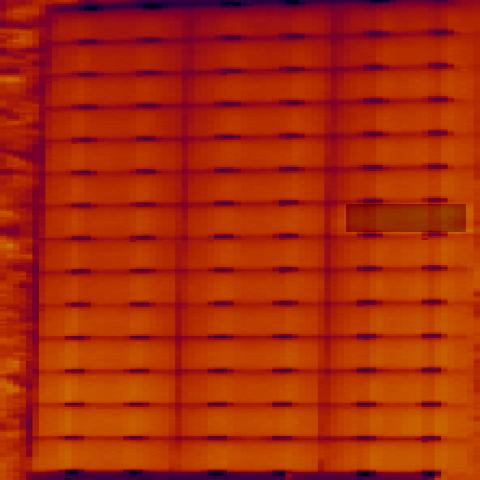fault: (346, 204, 466, 232)
